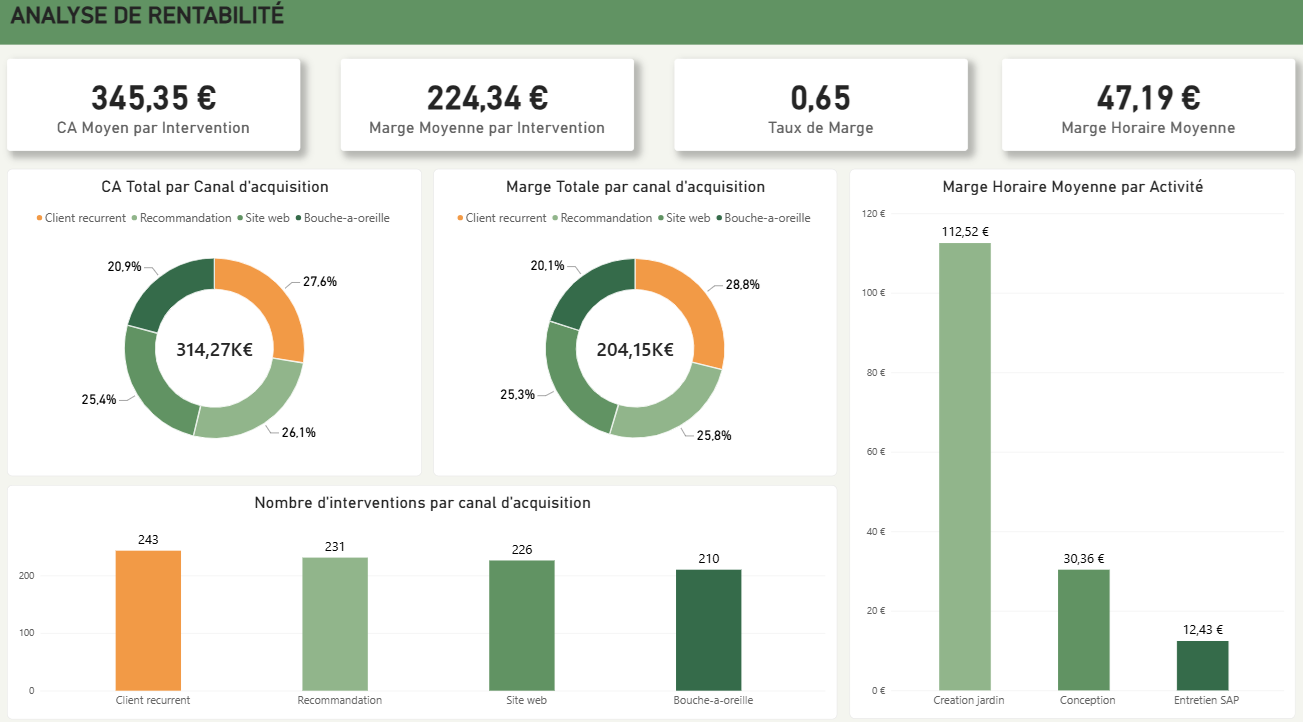

Layout of this report page (visuals, bound fields, positions):
{"tool":"powerbi","page":{"name":"ANALYSE DE RENTABILITÉ","canvas":[1920,1080],"ordinal":1},"visuals":[{"type":"textbox","box":[10.9,10,729.3,68.8],"z":0},{"type":"card","fields":{"Values":["_Mesures.CA Moyen par Intervention"]},"box":[14.5,93,430,135],"z":1000},{"type":"card","fields":{"Values":["_Mesures.Marge Moyenne par Intervention"]},"box":[503.6,93,430,135],"z":2000},{"type":"card","fields":{"Values":["_Mesures.Marge Horaire Moyenne"]},"box":[1474.5,93,430,135],"z":3000},{"type":"clusteredColumnChart","fields":{"Category":["DIM_Prestation.activite"],"Y":["_Mesures.Marge Horaire Moyenne"]},"box":[1250.9,254.5,654.5,807.3],"z":4000},{"type":"donutChart","title":"Marge Totale par canal d''acquisition","fields":{"Category":["FACT_Prestation.canal_acquisition"],"Y":["_Mesures.Marge Totale"]},"box":[640.2,255,592.7,450.9],"z":5000},{"type":"card","fields":{"Values":["_Mesures.Taux de Marge"]},"box":[994,93,430,135],"z":6000},{"type":"donutChart","fields":{"Category":["FACT_Prestation.canal_acquisition"],"Y":["_Mesures.CA Total"]},"box":[14.5,254.5,609.1,450.9],"z":7000},{"type":"clusteredColumnChart","title":"Nombre d''interventions par canal d''acquisition","fields":{"Category":["FACT_Prestation.canal_acquisition"],"Y":["_Mesures.Nombre interventions"]},"box":[14.5,718.2,1218.2,343.6],"z":8000}]}

Visuals, with their boxes in screenshot pixels (x1, y1, x2, y2), scaled from the page's 1920x1080 canvas onto the 1303x722 screenshot:
textbox: left=7, top=7, right=502, bottom=53
card - _Mesures.CA Moyen par Intervention: left=10, top=62, right=302, bottom=152
card - _Mesures.Marge Moyenne par Intervention: left=342, top=62, right=634, bottom=152
card - _Mesures.Marge Horaire Moyenne: left=1001, top=62, right=1292, bottom=152
clusteredColumnChart - DIM_Prestation.activite x _Mesures.Marge Horaire Moyenne: left=849, top=170, right=1293, bottom=710
"Marge Totale par canal d''acquisition" donutChart: left=434, top=170, right=837, bottom=472
card - _Mesures.Taux de Marge: left=675, top=62, right=966, bottom=152
donutChart - FACT_Prestation.canal_acquisition x _Mesures.CA Total: left=10, top=170, right=423, bottom=472
"Nombre d''interventions par canal d''acquisition" clusteredColumnChart: left=10, top=480, right=837, bottom=710
